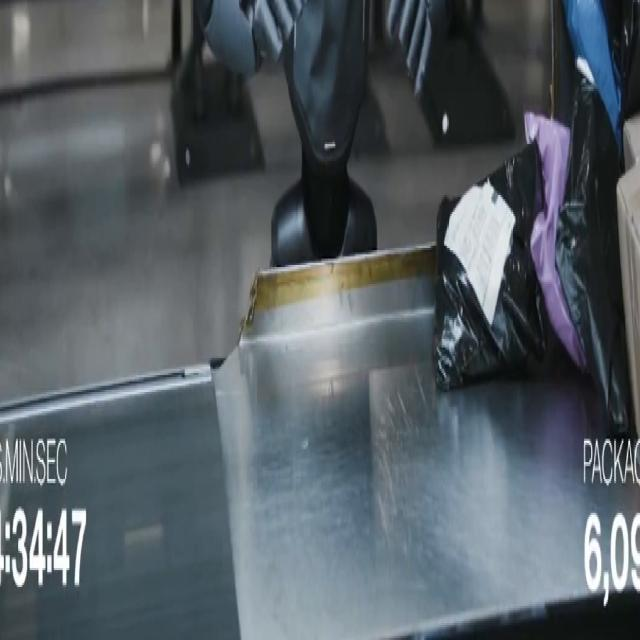package: (434, 145, 546, 389), (556, 77, 632, 434), (525, 113, 585, 368), (564, 0, 621, 152), (617, 166, 639, 436), (603, 0, 639, 122), (620, 0, 639, 118), (624, 115, 639, 171)
